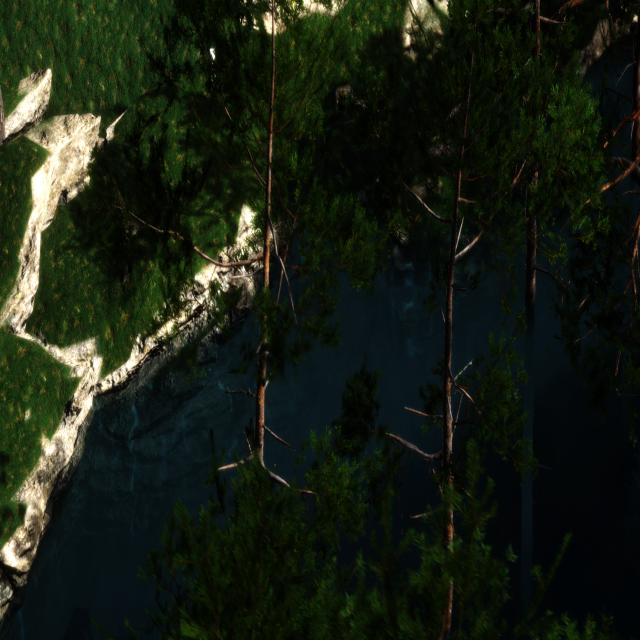Human: (204, 8, 218, 102)
